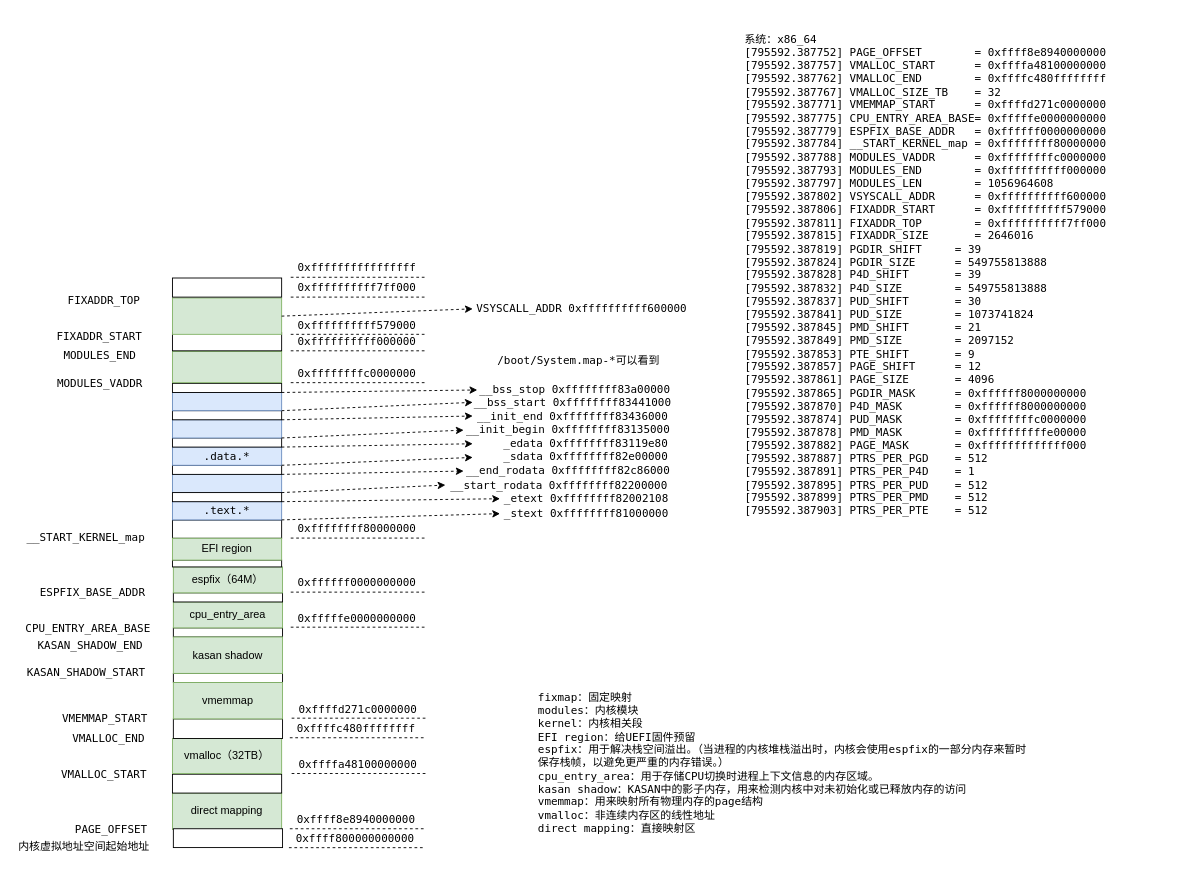
The diagram is 1187 pixels wide and 882 high, and some of its shapes have lost their labels. Each missing label, with the box of its shape:
.bss.*: (172, 392, 282, 411)
.init.*: (172, 419, 282, 438)
.rodata.*: (172, 473, 282, 493)
fixmap: (172, 297, 282, 334)
modules（1G）: (172, 351, 282, 383)
